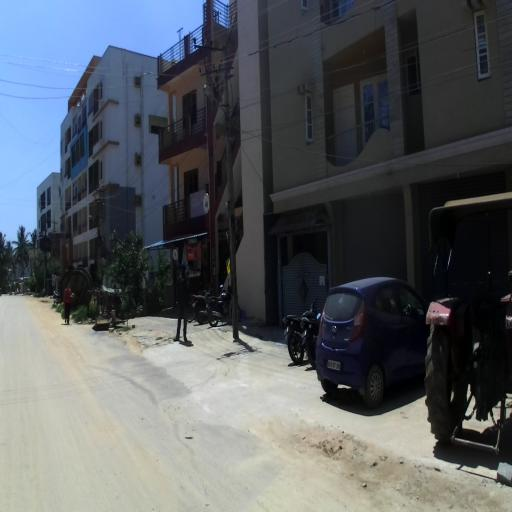street_light_0: (204, 84, 230, 134), (89, 215, 100, 234)
